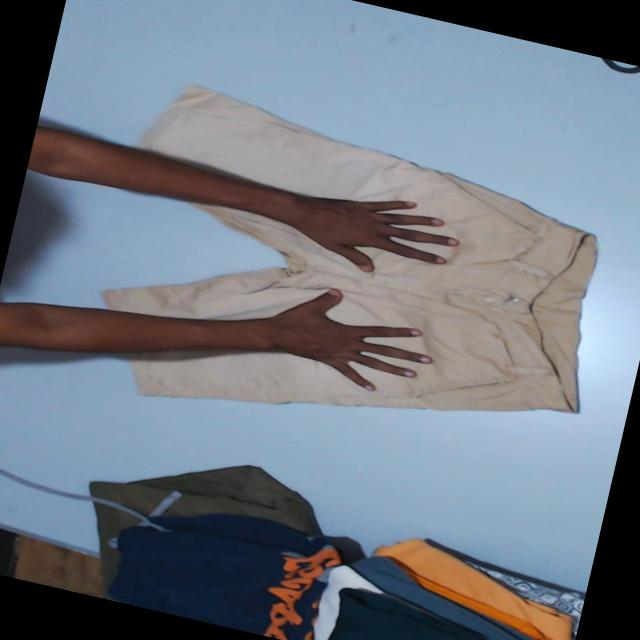new-garment: (101, 85, 595, 412), (102, 85, 595, 411)
